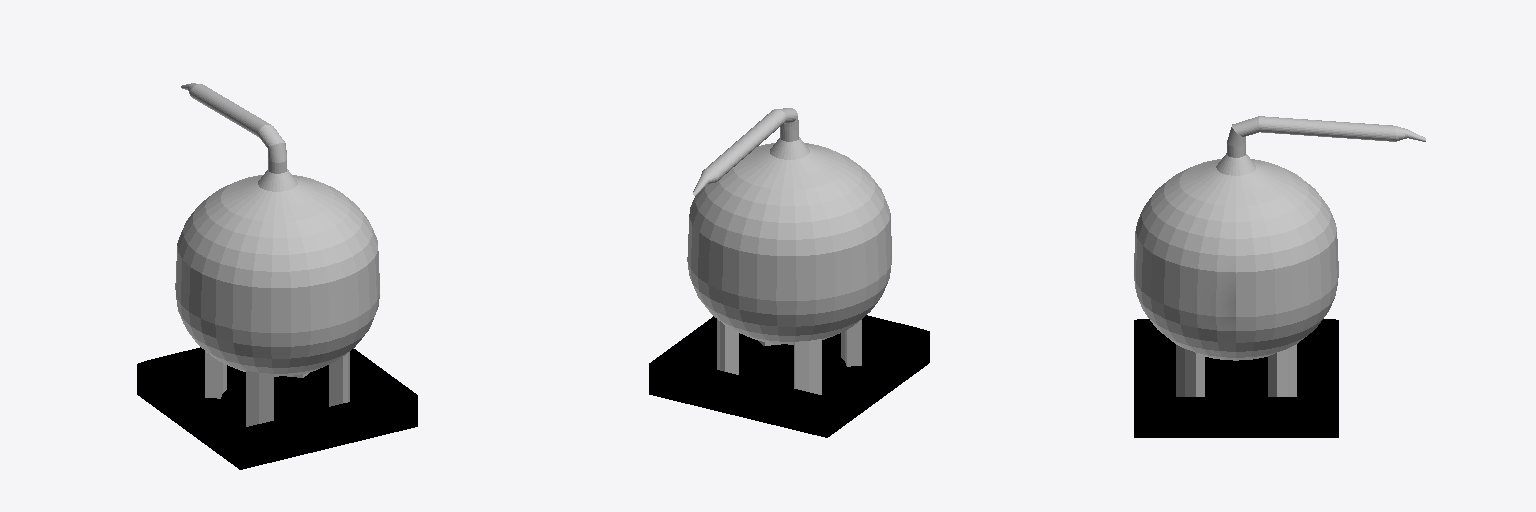
The picture shows the model from 3 angles: view 1: azimuth 30°, elevation 25°; view 2: azimuth 150°, elevation 25°; view 3: azimuth 270°, elevation 25°; orthographic projection.
Visible parts, largest first — view 1: Sphere, Cube; view 2: Sphere, Cube; view 3: Sphere, Cube.
Boxes of the visible parts, x1,y1,x2,y2 form: Sphere: [175, 83, 379, 426]; Cube: [137, 347, 417, 469]; Sphere: [687, 108, 891, 394]; Cube: [649, 315, 929, 437]; Sphere: [1134, 116, 1425, 396]; Cube: [1134, 319, 1338, 437].
Bounding box in the file's own units: 1 × 1.49 × 1.43.
2 materials, 1 textured.